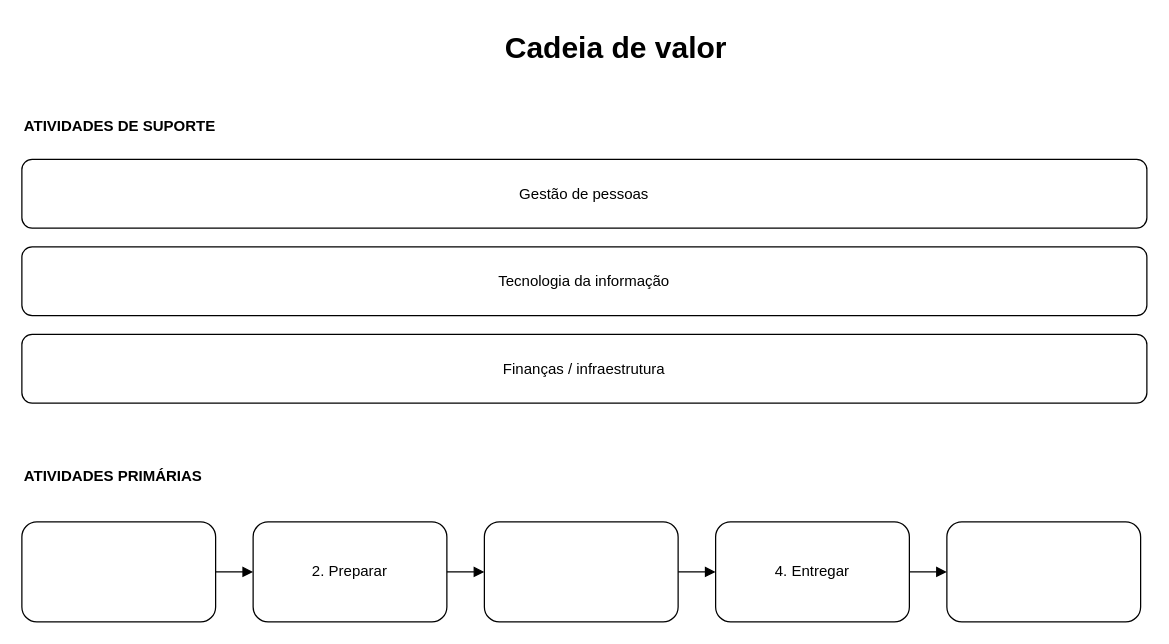
The diagram is 1169 pixels wide and 644 high, and some of its shapes have lost their labels. The shapes that lost their labels are listed below. From the top down, each one's box as (x1, y1, x2, y2) in pixels, then its label:
(21, 521, 216, 622): 1. Receber demanda
(483, 521, 678, 622): 3. Executar
(946, 521, 1141, 622): 5. Pós-entrega
